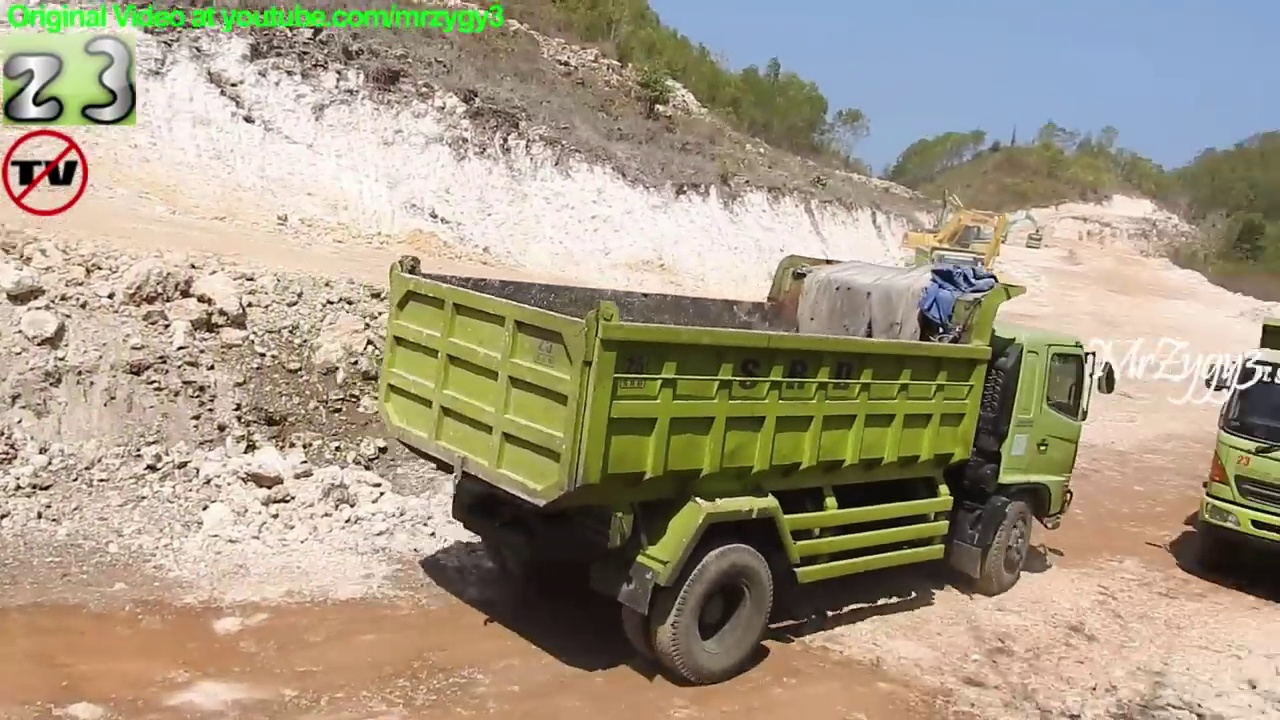excavator: (900, 205, 1010, 264), (930, 188, 984, 243), (992, 207, 1040, 247)
truck: (377, 251, 1124, 686), (1186, 313, 1280, 570), (916, 247, 991, 303), (1026, 230, 1047, 248)
